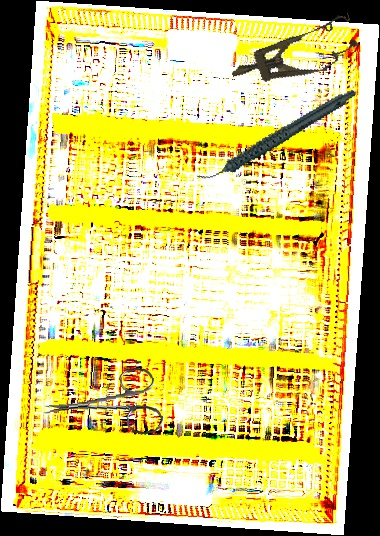Handpiece: (186, 88, 368, 184)
Iris Scissors: (39, 366, 165, 444)
Speculum: (224, 10, 363, 99)
